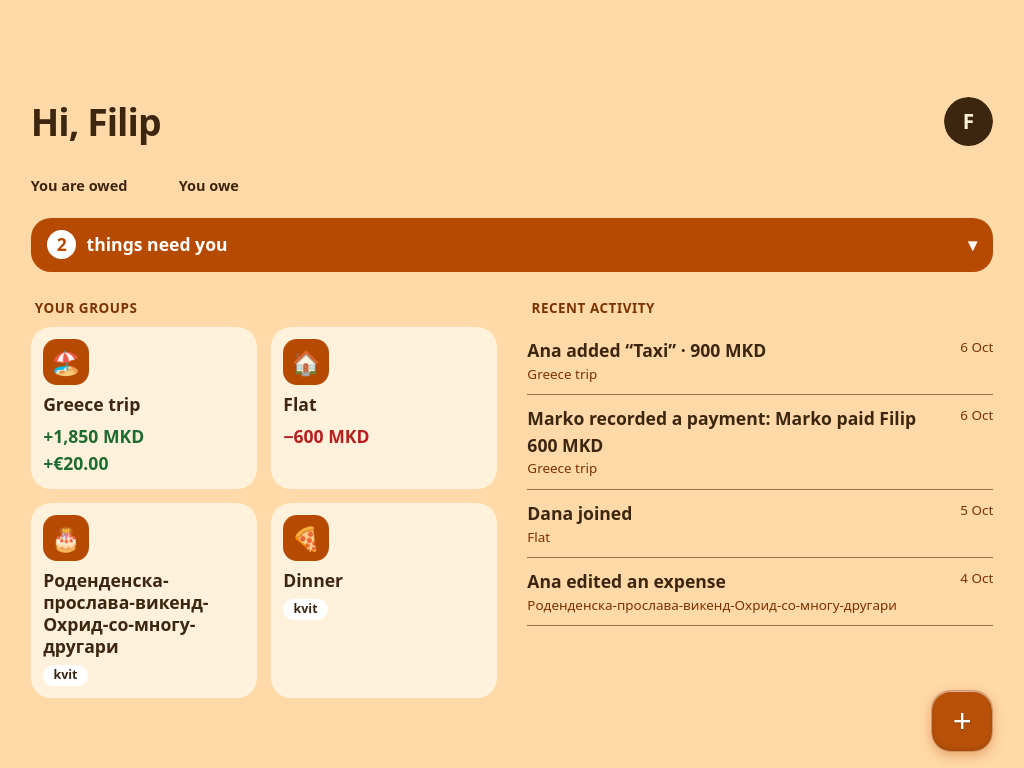
Test case: personal spending from the home screen › opens the category grid straight away, with no "What do you add?" sheet and no Income item
The width and height of the screenshot is (1024, 768).
Click the button named "Add".
click(962, 721)  # box [931, 690, 993, 752]
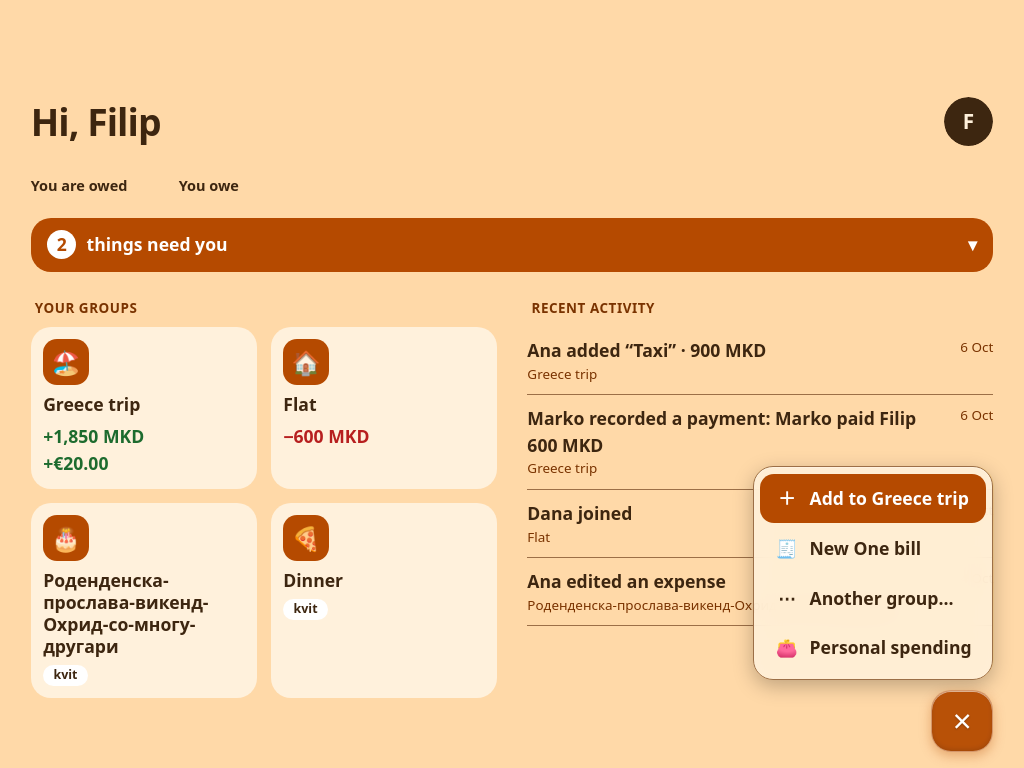
Click the menu item "👛 Personal spending".
click(873, 648)  # box [760, 623, 986, 672]
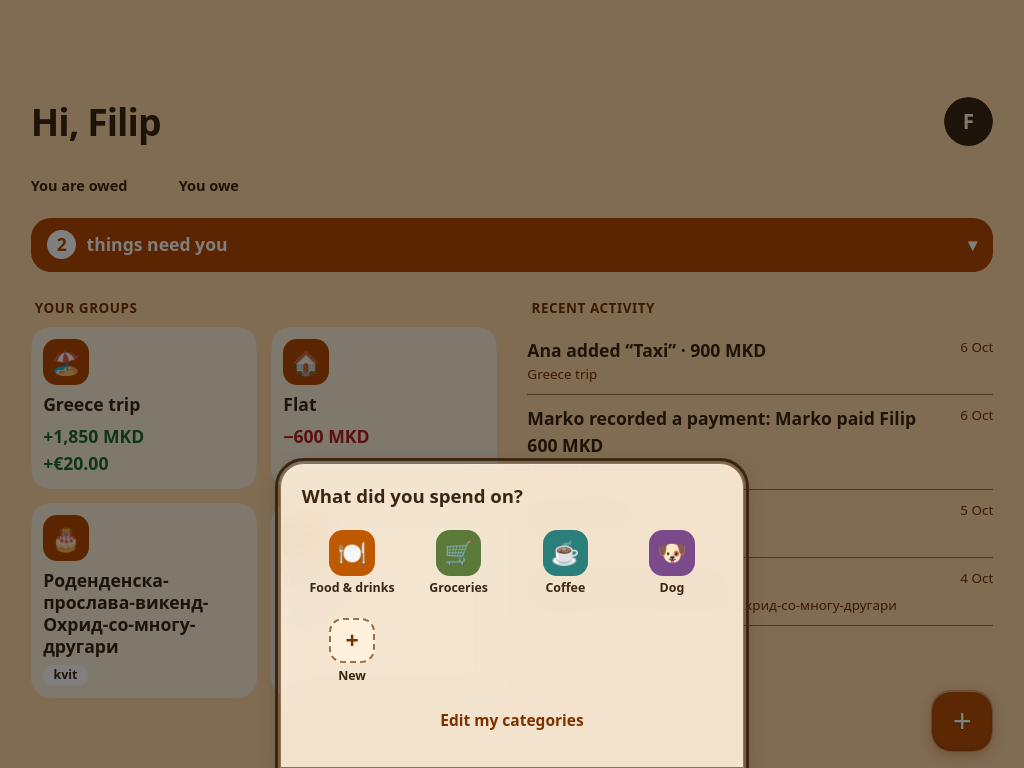
Expected: the dialog "What did you spend on?" is shown, [280, 462, 744, 767]
